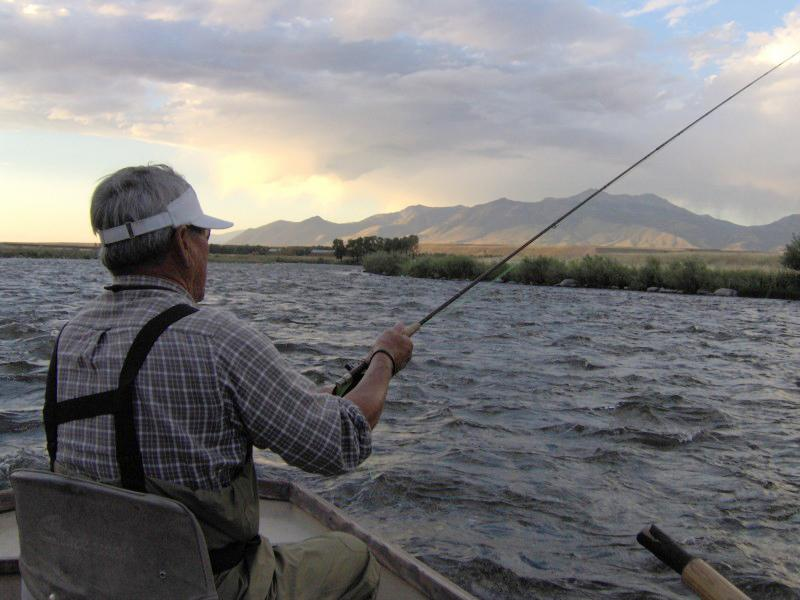person: (42, 166, 414, 600)
